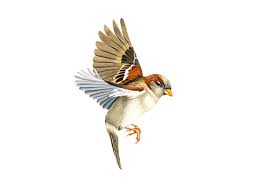hsparrow: (72, 14, 180, 174)
